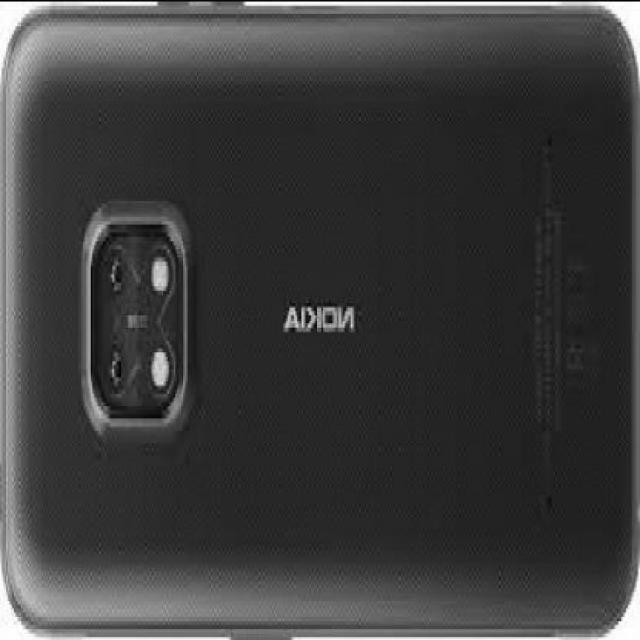fake: (2, 3, 638, 639)
